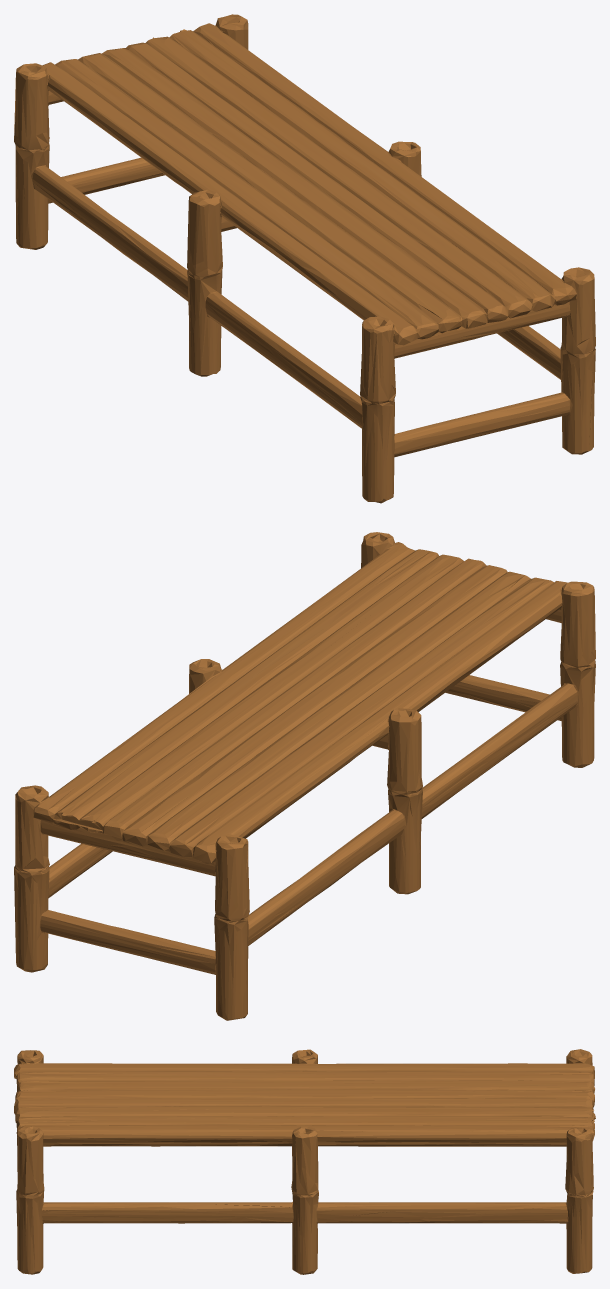
File: sap-thap-xa.ae901950.glb
The picture shows the model from 3 angles, top to bottom: view 1: azimuth 30°, elevation 25°; view 2: azimuth 150°, elevation 25°; view 3: azimuth 270°, elevation 25°; orthographic projection. The views are drawn at different scales.
Parts seen in each view (by area): view 1: tripo_node_d542632d-55fe-40aa-a39c-4f9fd28a59b9; view 2: tripo_node_d542632d-55fe-40aa-a39c-4f9fd28a59b9; view 3: tripo_node_d542632d-55fe-40aa-a39c-4f9fd28a59b9.
Boxes of the visible parts, x1,y1,x2,y2 form: tripo_node_d542632d-55fe-40aa-a39c-4f9fd28a59b9: (14,14,595,503); tripo_node_d542632d-55fe-40aa-a39c-4f9fd28a59b9: (14,532,595,1020); tripo_node_d542632d-55fe-40aa-a39c-4f9fd28a59b9: (14,1049,595,1274).
Bounding box in the file's own units: 0.3575 × 0.2605 × 0.9819.
